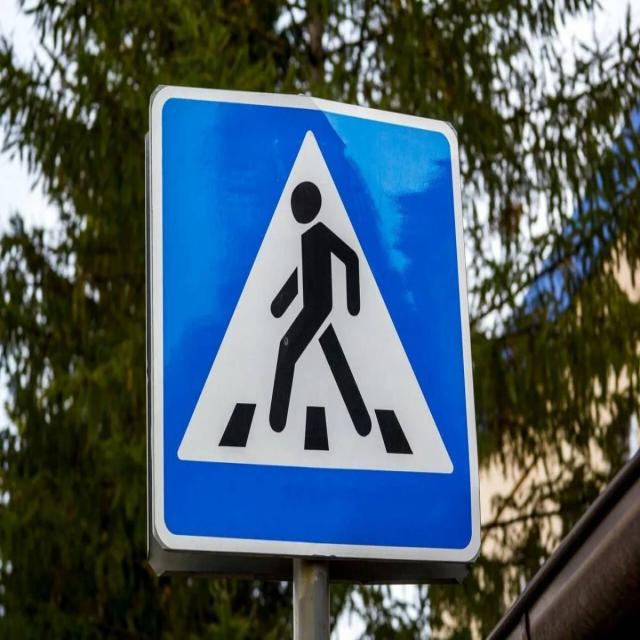Traffic sign: (152, 86, 478, 562)
